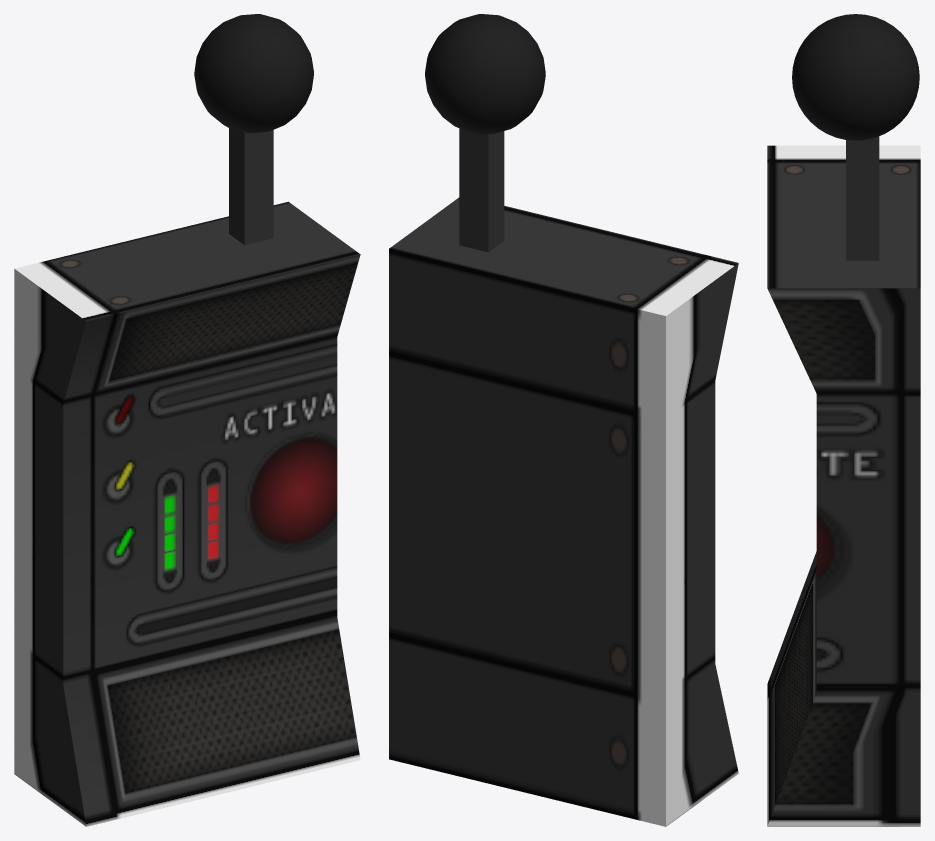
File: emittor.fbx
The picture shows the model from 3 angles, left to right: view 1: azimuth 30°, elevation 25°; view 2: azimuth 150°, elevation 25°; view 3: azimuth 270°, elevation 25°; orthographic projection. The views are drawn at different scales.
Parts seen in each view (by area): view 1: pCube2, pSphere1, pCube3; view 2: pCube2, pSphere1, pCube3; view 3: pCube2, pSphere1, pCube3.
Boxes of the visible parts, x1=… form: pCube2: x1=14, y1=201, x2=360, y2=826; pSphere1: x1=194, y1=14, x2=313, y2=133; pCube3: x1=229, y1=128, x2=273, y2=245; pCube2: x1=389, y1=197, x2=738, y2=826; pSphere1: x1=425, y1=14, x2=545, y2=134; pCube3: x1=459, y1=128, x2=504, y2=252; pCube2: x1=767, y1=145, x2=920, y2=826; pSphere1: x1=792, y1=14, x2=919, y2=140; pCube3: x1=846, y1=136, x2=879, y2=260.
Bounding box in the file's own units: 0.4229 × 1.07 × 0.1924.
